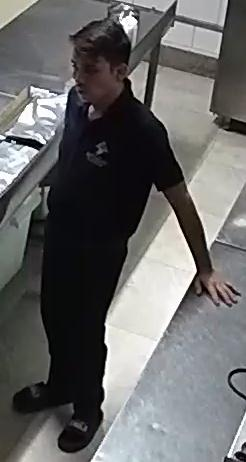no_apron: (35, 46, 150, 250)
